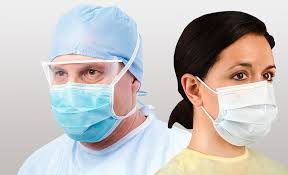surgical: (45, 80, 121, 144), (210, 79, 281, 146)
